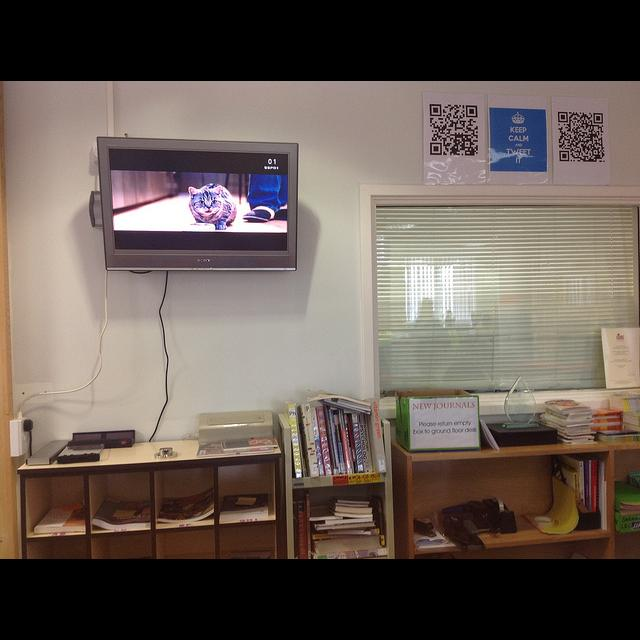Flat-Panel-TV: (97, 138, 299, 275)
